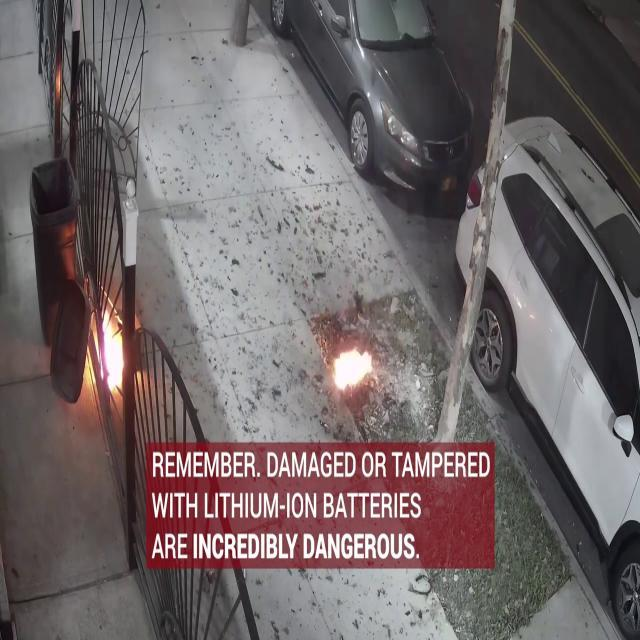Fire: (328, 338, 376, 398), (101, 303, 126, 403)
